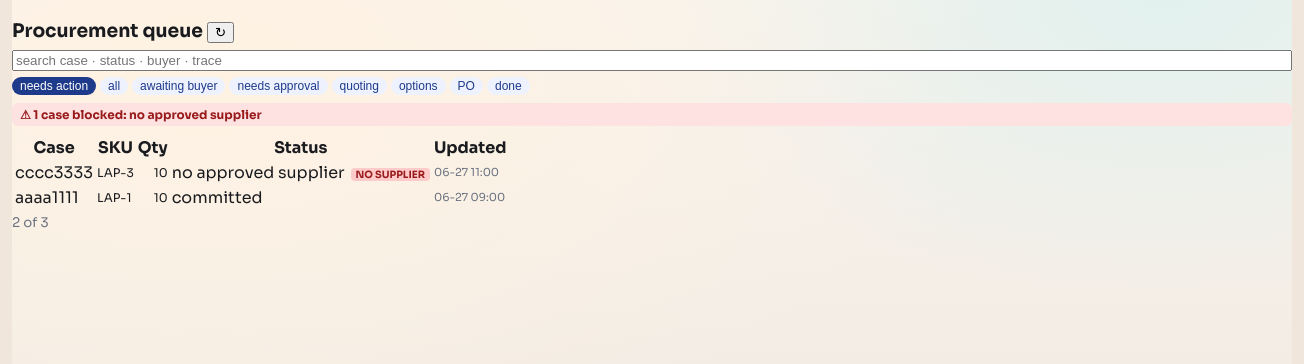
Test: CaseQueue › filters by the search term across id / status / sku
This screenshot has width=1304, height=364.
Click the button with test id "op-chip-all" at (114, 86), box [100,77,128,95]
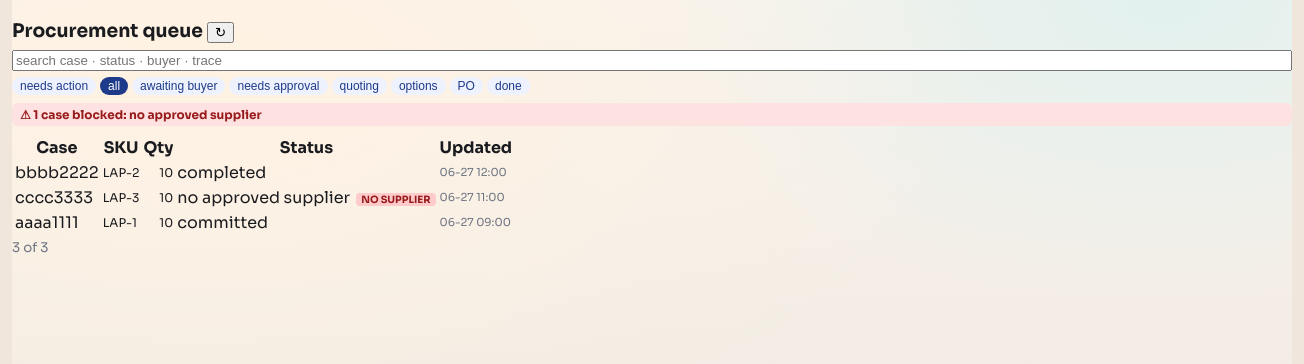
Type "lap-3" into the field with test id "op-queue-search" at (652, 60), box [12,50,1292,71]
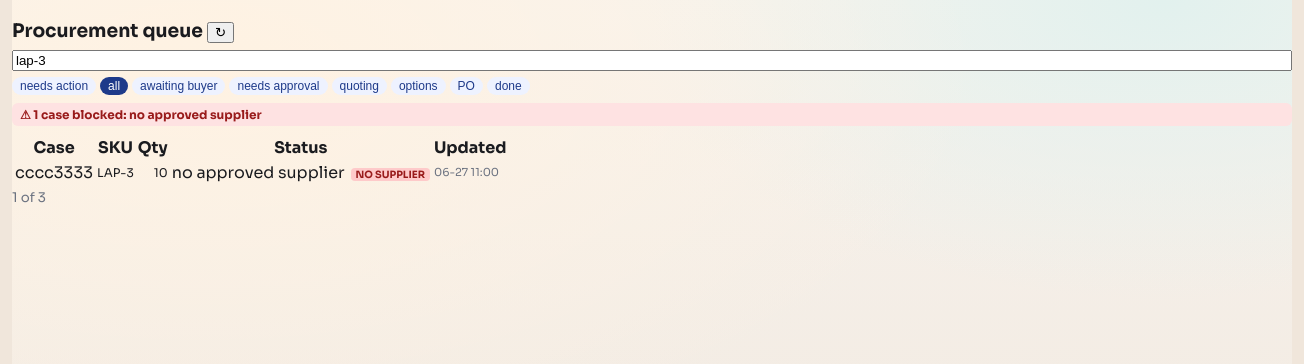
Check: the text "cccc3333" is shown, box [14,161,94,184]
Check: the number of rows with test id "op-queue-row" is 1, box [14,161,508,184]
